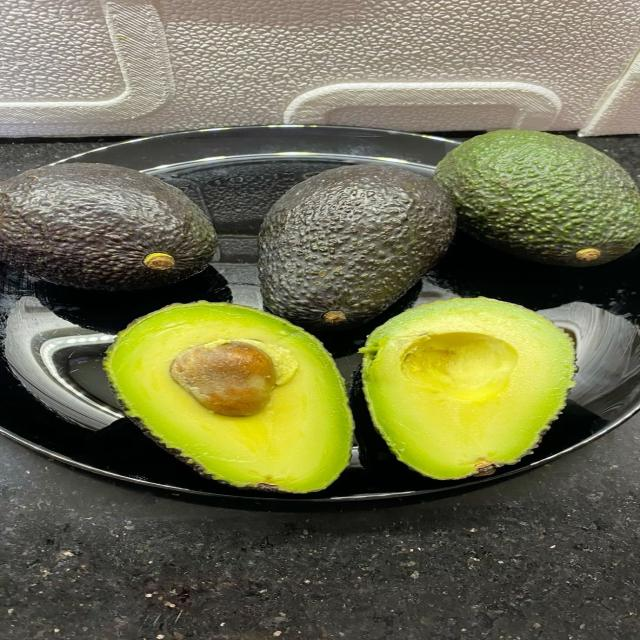avocado: (105, 302, 352, 492), (361, 298, 574, 479), (259, 165, 455, 330), (435, 131, 639, 266), (0, 163, 216, 290)
